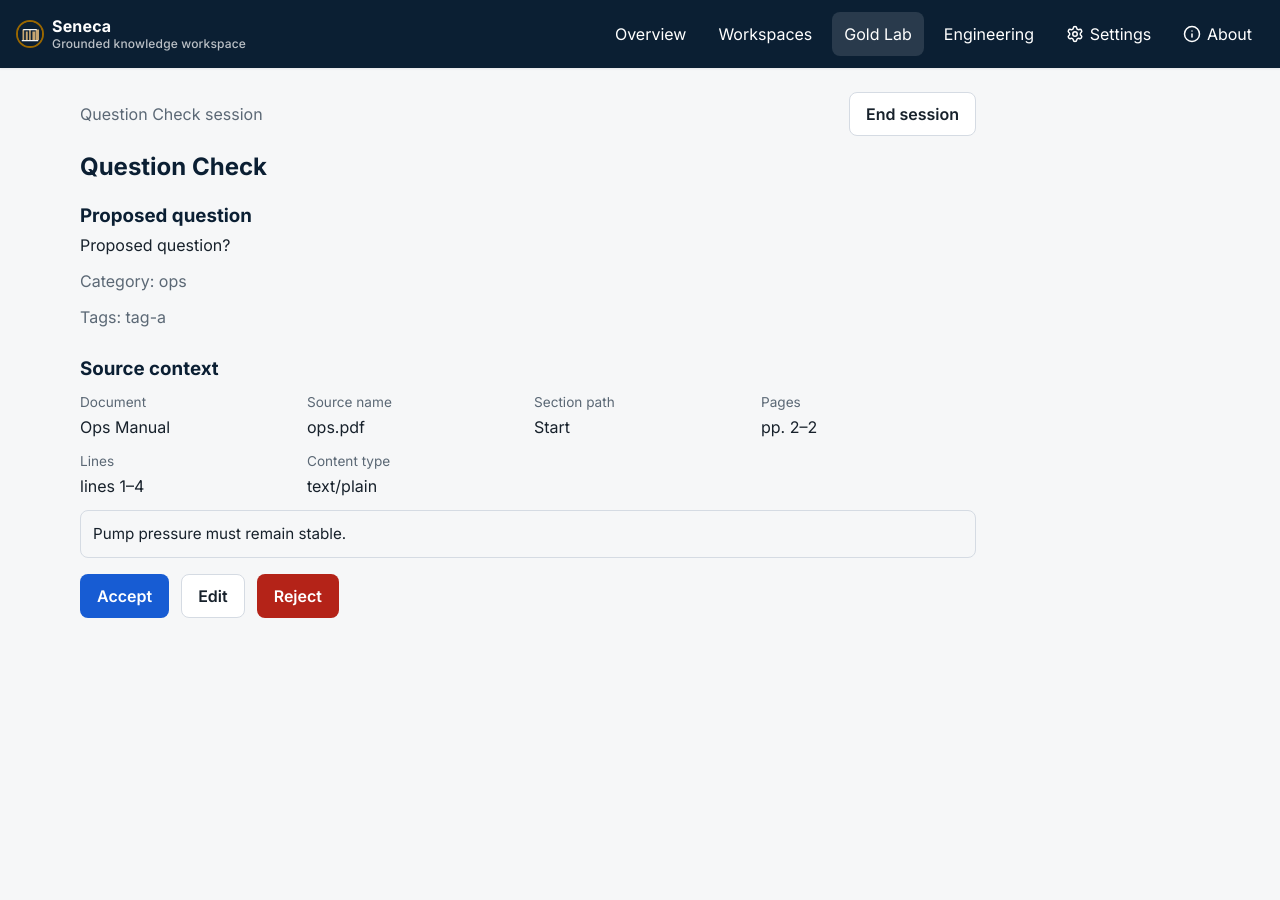
Test: 16N-B session exit and completion › IR-001 F002: active QC surface has no breadcrumb escape around unsaved edit
Expected: the element with test id "question-check-presentation" is shown, [80, 152, 976, 634]
Click the button "Edit" at (213, 596), box [181, 574, 245, 618]
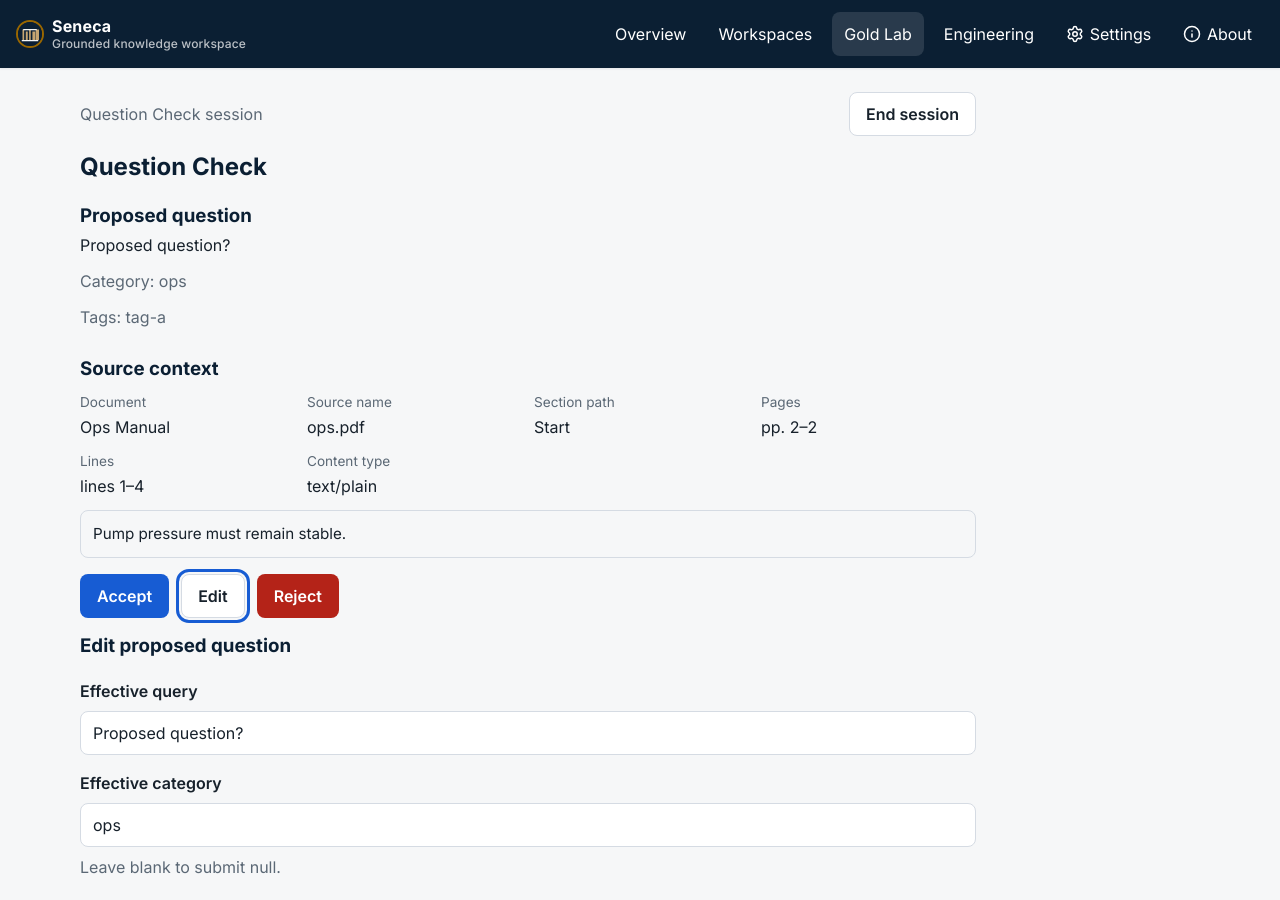
Expected: the field labelled "Effective query" is shown, [80, 710, 976, 754]
Click the button with test id "end-session" at (912, 114), box [849, 92, 976, 136]
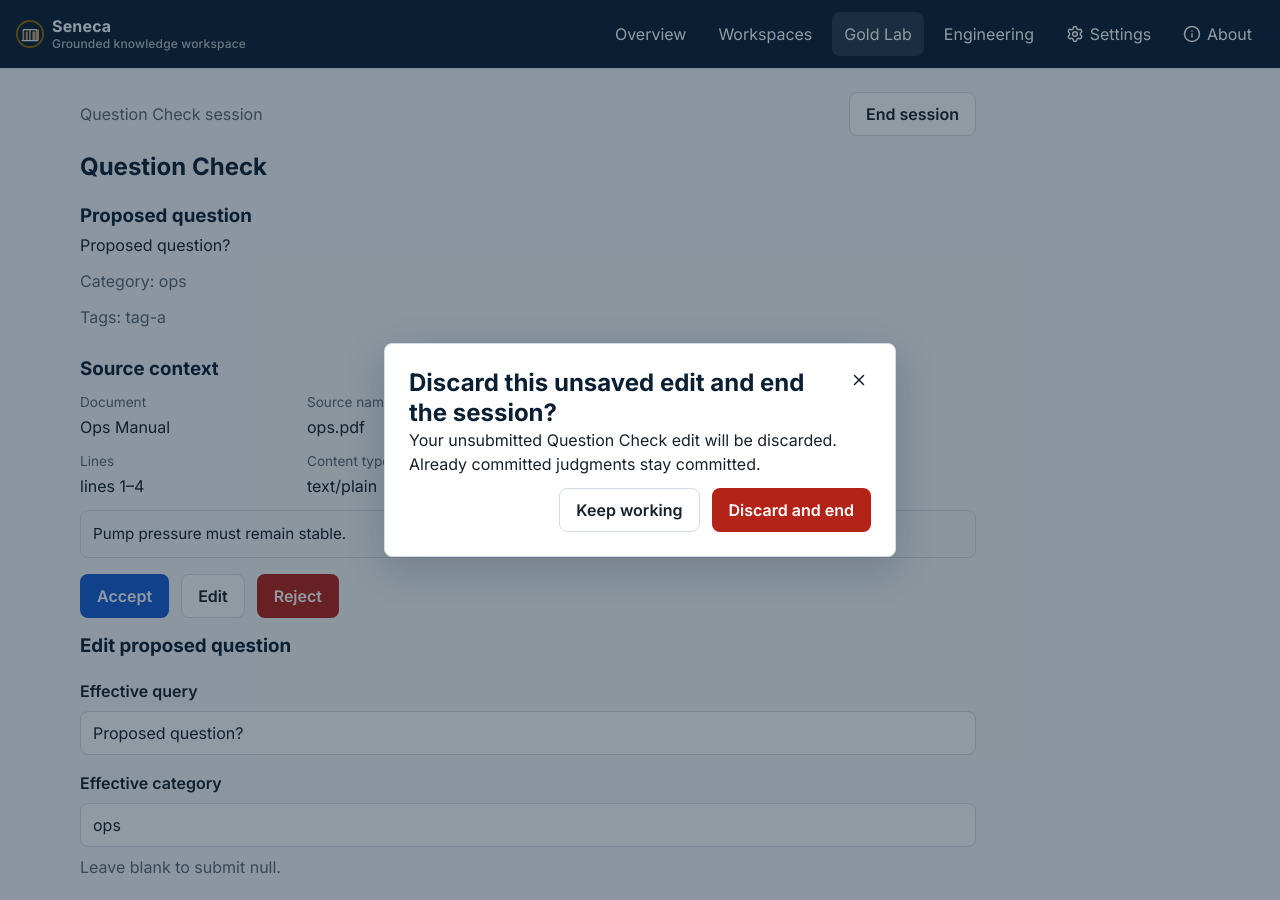
Expected: the field labelled "Effective query" is shown, [80, 710, 976, 754]
Expected: the heading "Discard this unsaved edit and end the session?" is shown, [409, 368, 831, 428]
